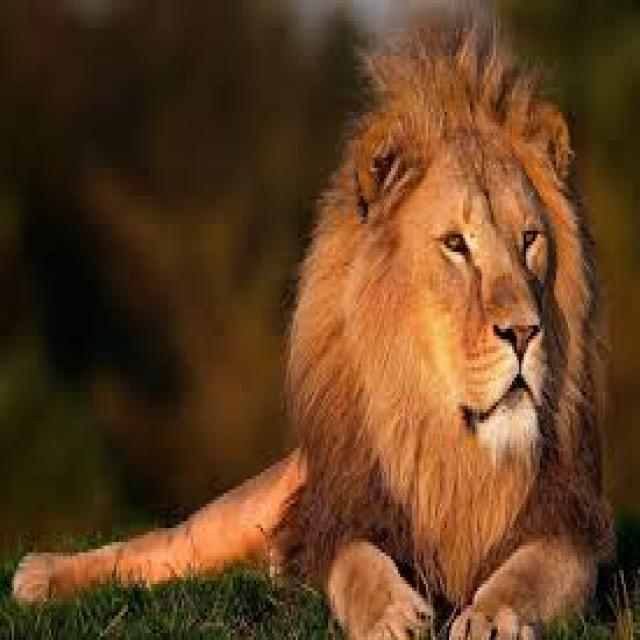Lion: (13, 56, 611, 637)
